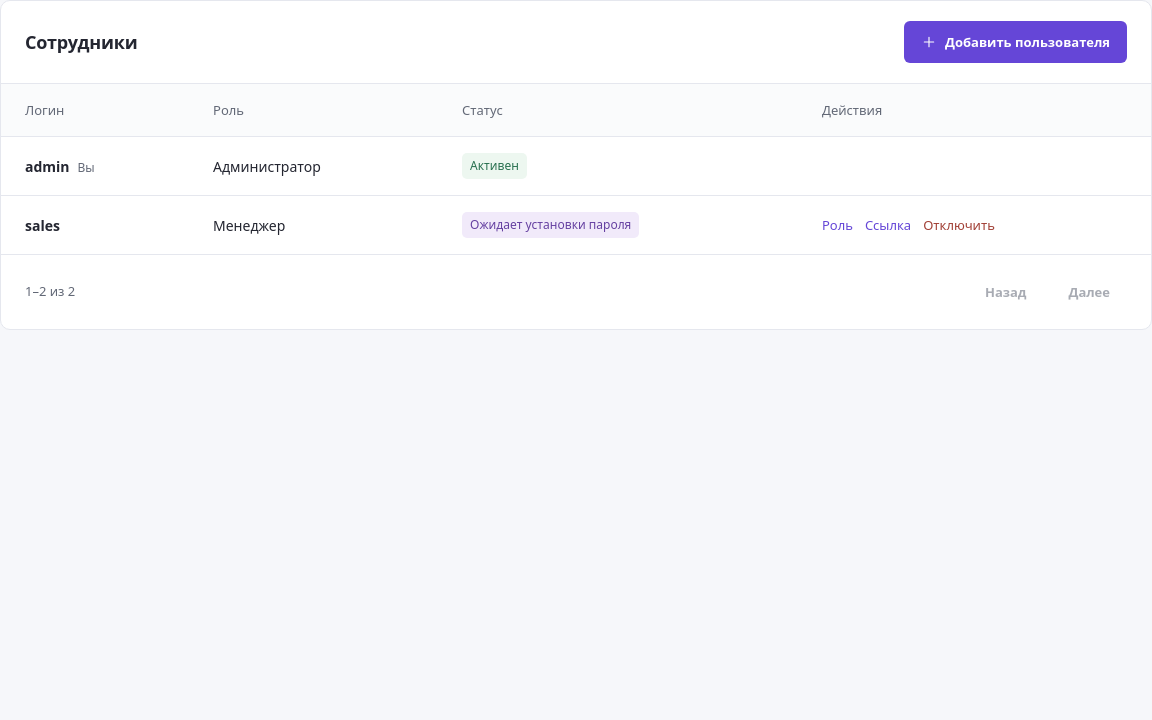
Test: confirms role changes and disabling before sending them
Expected: the text "sales" is shown, 25,216 -> 60,234
Click the button with aria-label "Изменить роль sales": (837, 225) 822,213 -> 853,237
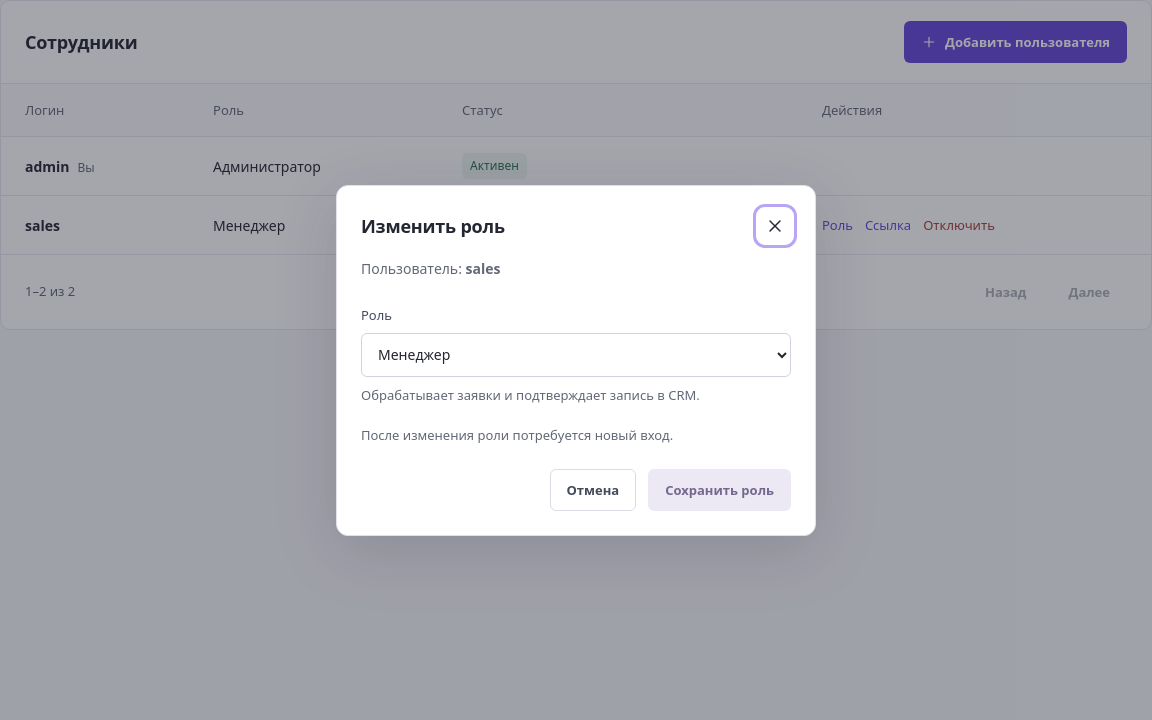
Select "Администратор" in the dropdown labelled "Роль": (576, 354) 361,332 -> 791,376
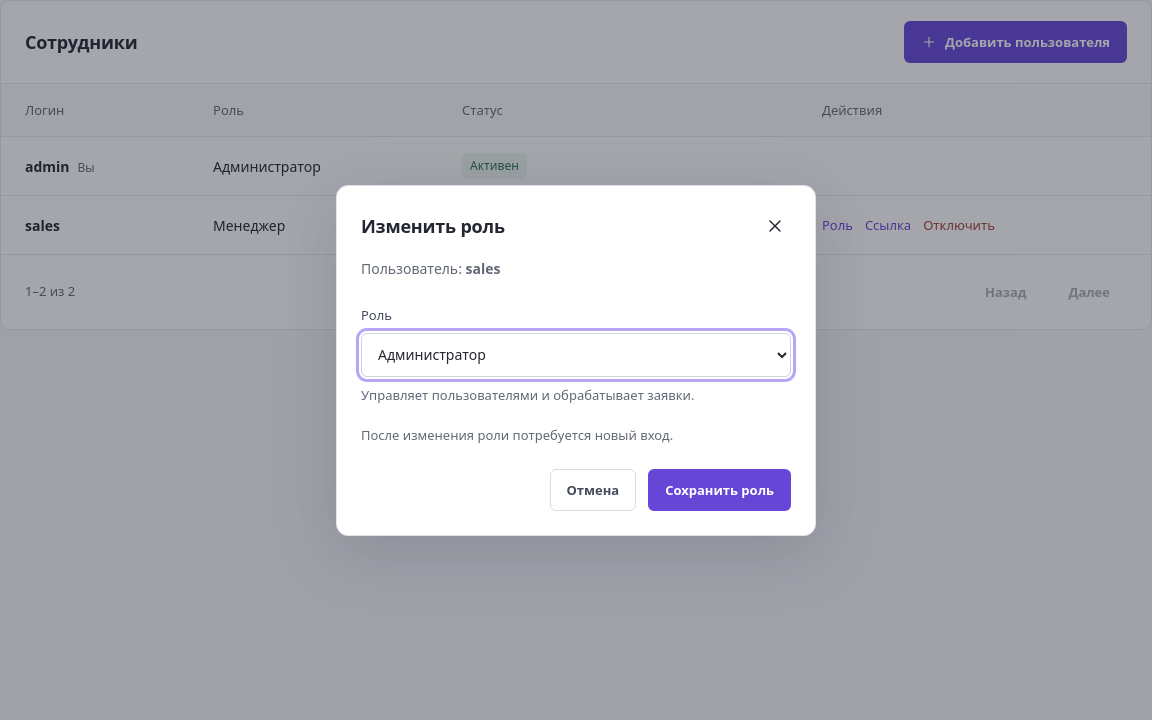
Click the button "Сохранить роль": (720, 490) 648,468 -> 791,510
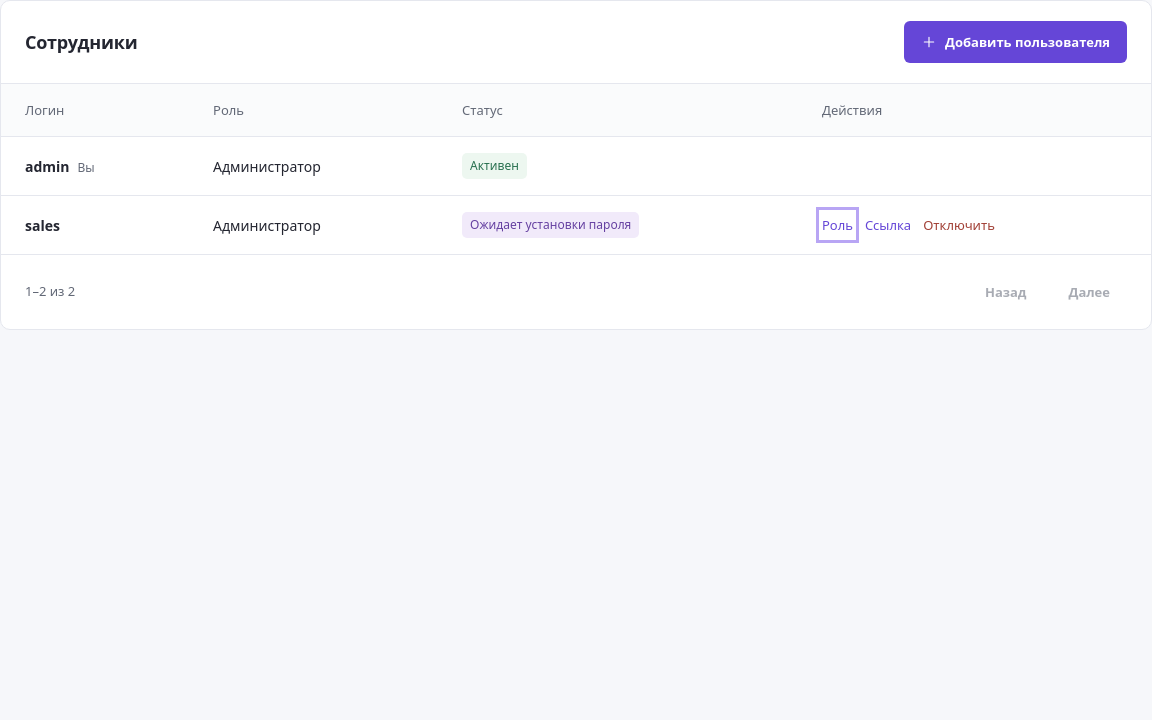
Expected: the dialog is gone
Click the button with aria-label "Отключить sales": (959, 225) 923,213 -> 995,237
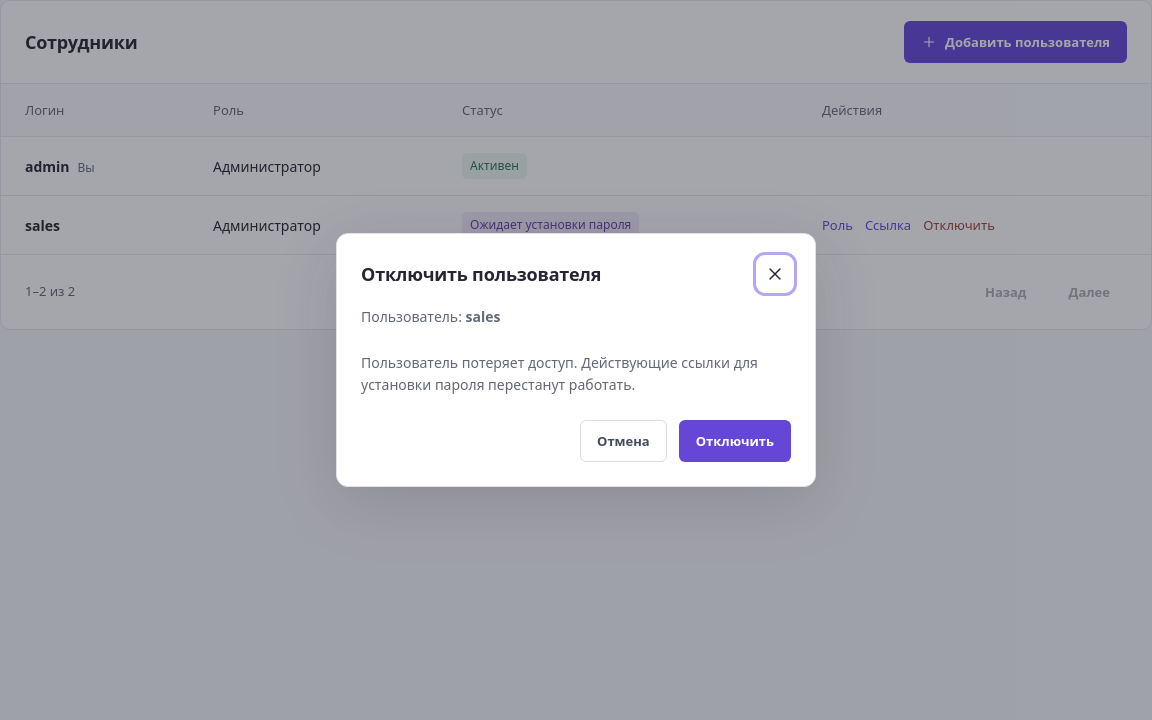
Click the button "Отключить": (735, 441) 679,420 -> 791,462
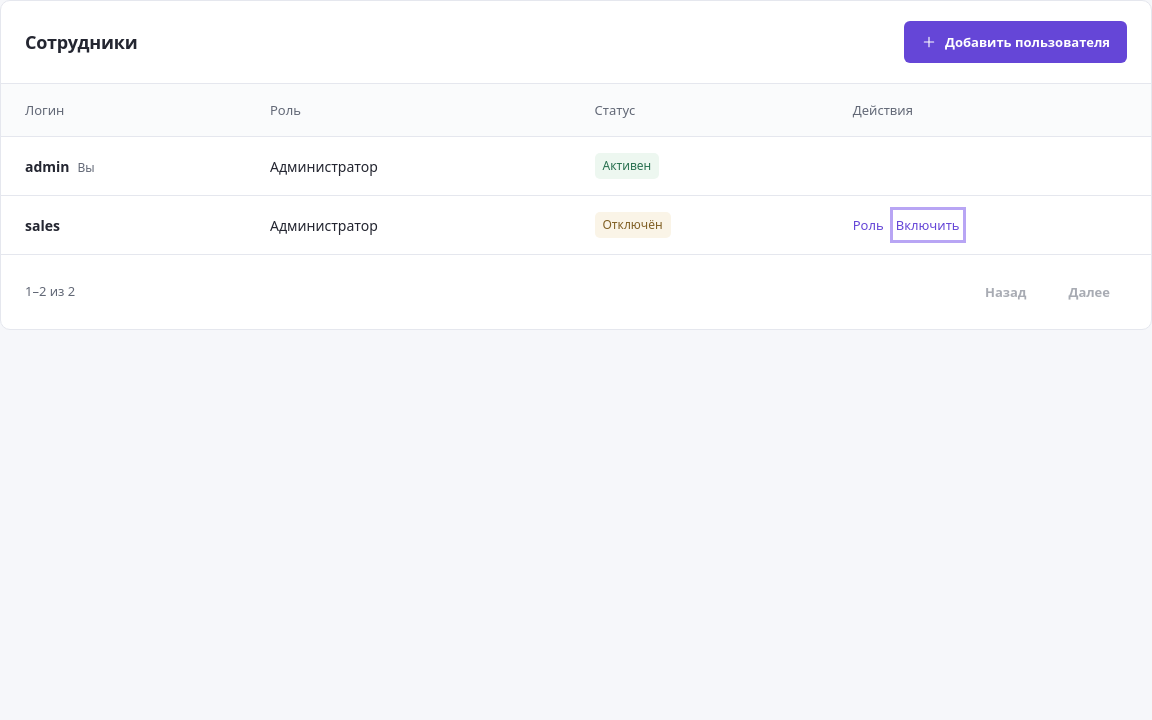
Expected: the button with aria-label "Включить sales" is enabled, 896,213 -> 960,237
Expected: the text "Отключён" is shown, 594,212 -> 671,238
